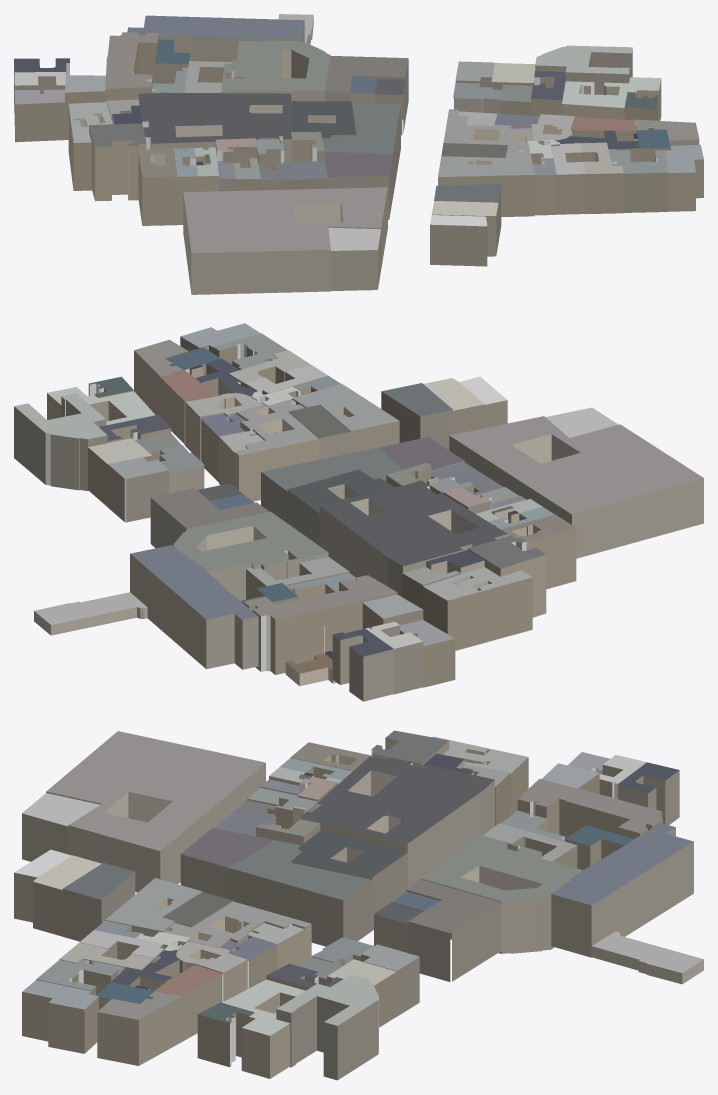
The picture shows the model from 3 angles, top to bottom: view 1: azimuth 30°, elevation 25°; view 2: azimuth 150°, elevation 25°; view 3: azimuth 270°, elevation 25°; orthographic projection. The views are drawn at different scales.
Parts seen in each view (by area): view 1: tuile; view 2: tuile; view 3: tuile.
Part boxes in pixels (left/top/right/bottom): tuile: left=14, top=14, right=703, bottom=294; tuile: left=14, top=323, right=703, bottom=701; tuile: left=14, top=730, right=703, bottom=1080.
Bounding box in the file's own units: 290 × 31.92 × 281.
